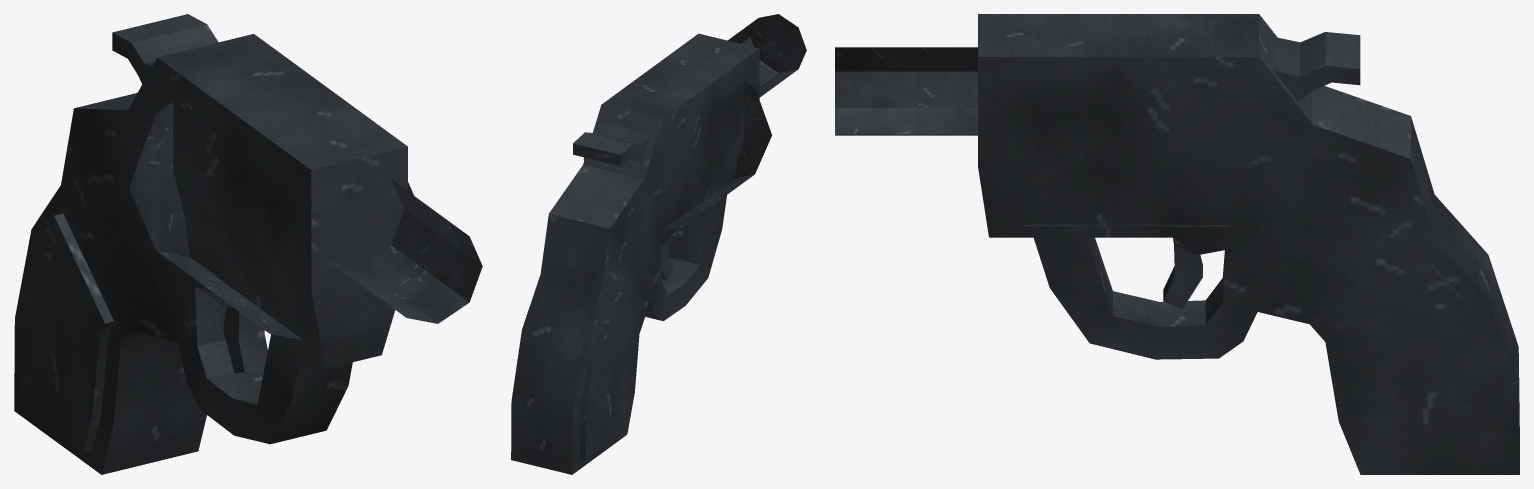
Rendered from Revolver.fbx.
3 renders of one model, left to right at view 1: azimuth 30°, elevation 25°; view 2: azimuth 150°, elevation 25°; view 3: azimuth 270°, elevation 25°, orthographic. The views are drawn at different scales.
Visible parts, largest first — view 1: Revolver.002, Revolver, Revolver.001; view 2: Revolver.002, Revolver, Revolver.001; view 3: Revolver.002, Revolver.
Boxes of the visible parts, <box> form: Revolver.002: <box>14,14,407,474</box>; Revolver: <box>328,179,482,323</box>; Revolver.001: <box>129,102,413,339</box>; Revolver.002: <box>511,33,759,474</box>; Revolver: <box>728,14,806,97</box>; Revolver.001: <box>583,81,771,230</box>; Revolver.002: <box>978,14,1519,474</box>; Revolver: <box>835,47,977,135</box>.
Size of the model in its own units: 0.1027 by 0.2428 by 0.3606.
1 material, 1 textured.
